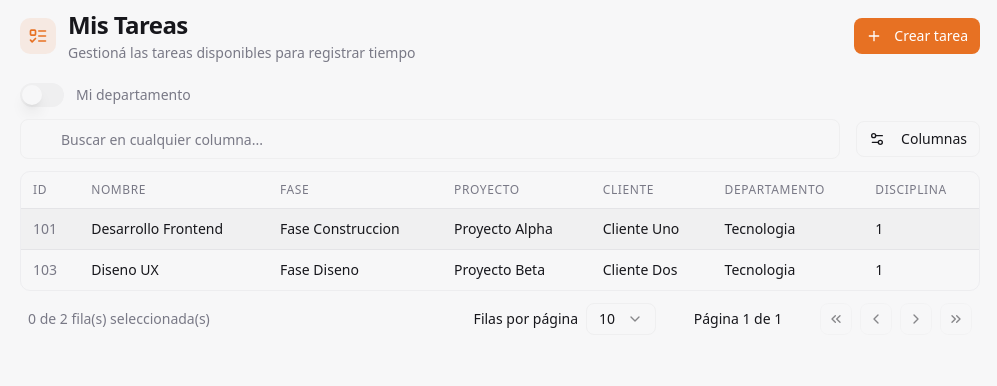
AvailableTasksPage › switches back to department 5 when toggled again
The width and height of the screenshot is (997, 386).
Click the switch at (42, 95), box [20,83,64,107]
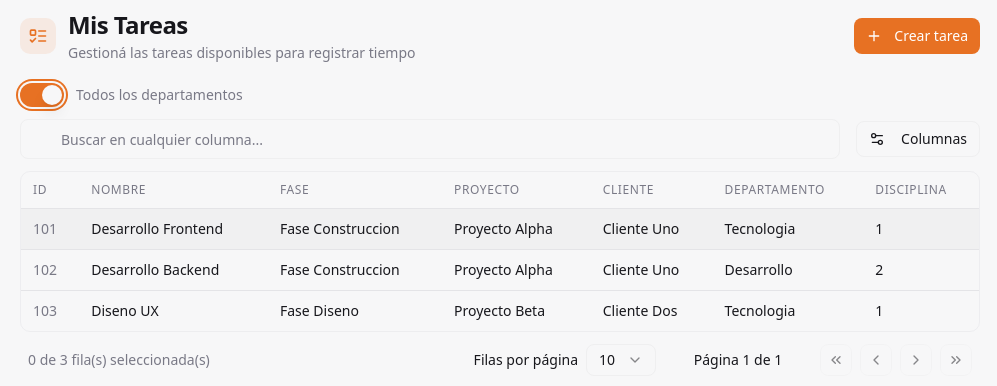
Check: the text "Desarrollo Backend" is shown, box [91,260,219,278]
Toggle back to "Mi departamento"
Click the switch at (42, 95), box [20,83,64,107]
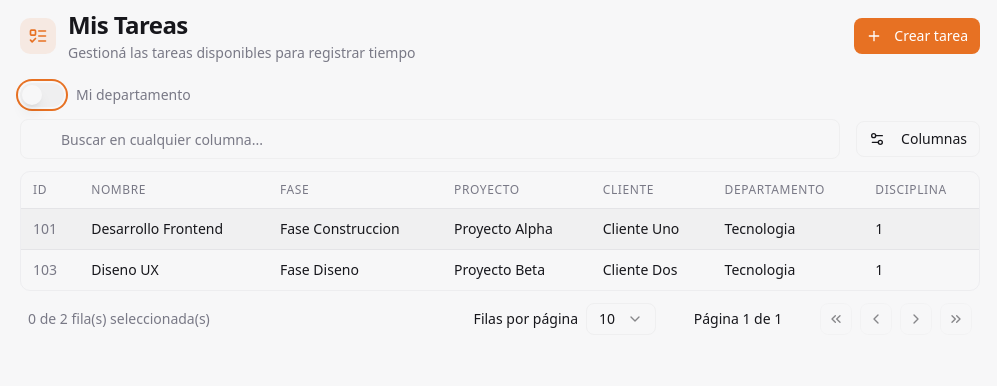
Check: the text "Desarrollo Backend" is gone
